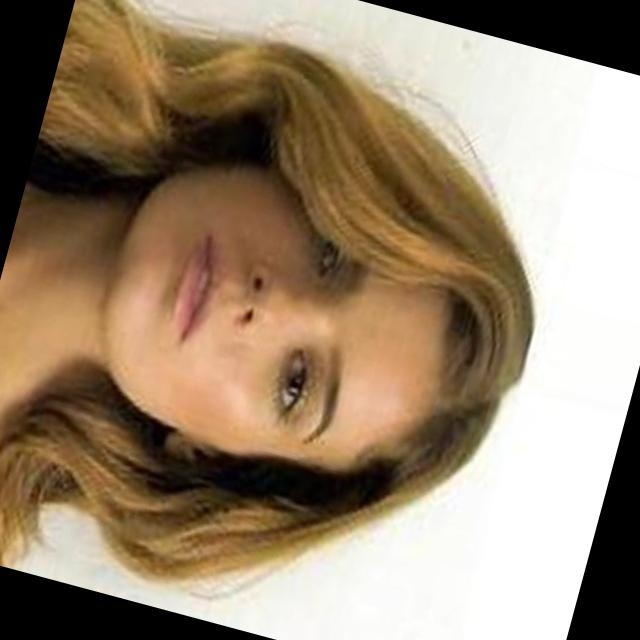bareface: (84, 126, 467, 474)
